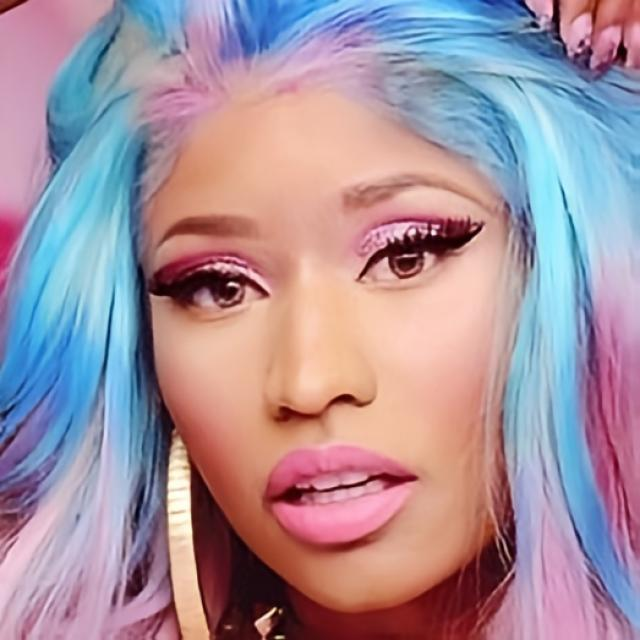surprise: (143, 93, 528, 616)
